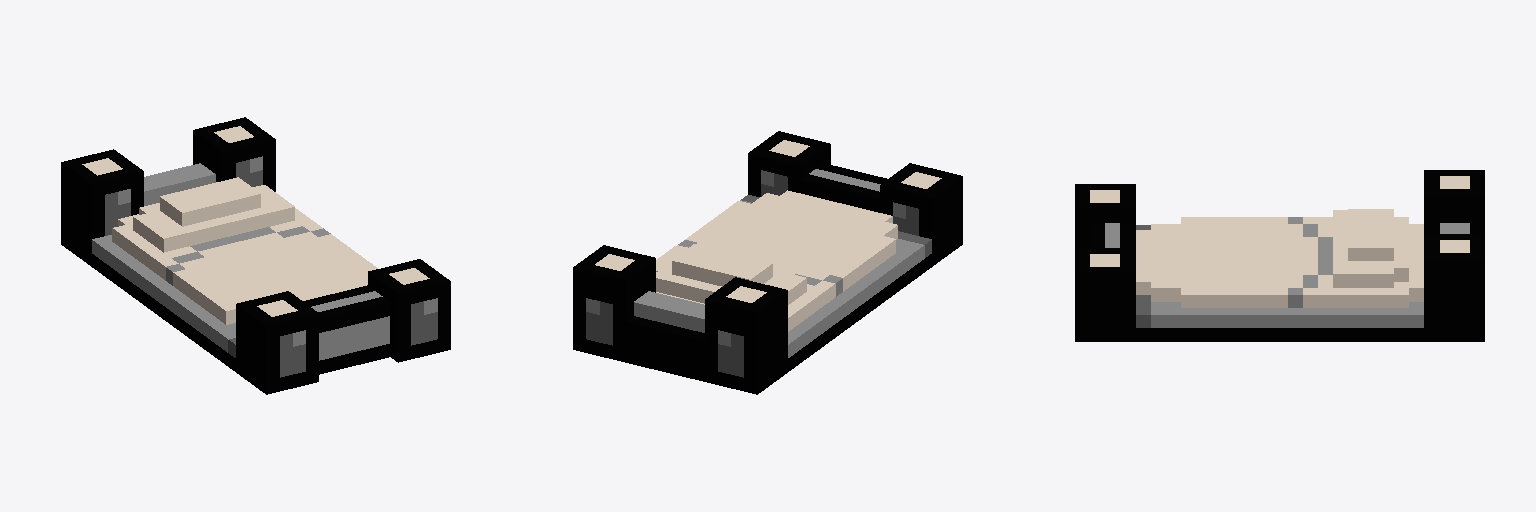
The picture shows the model from 3 angles: view 1: azimuth 30°, elevation 25°; view 2: azimuth 150°, elevation 25°; view 3: azimuth 270°, elevation 25°; orthographic projection.
Parts seen in each view (by area): view 1: Model; view 2: Model; view 3: Model.
Part boxes in pixels (bbox=[...]): Model: bbox=[61, 117, 450, 394]; Model: bbox=[573, 131, 962, 394]; Model: bbox=[1075, 170, 1484, 341].
Size of the model in its own units: 16.59 by 7.11 by 32.
1 materials, 1 textured.